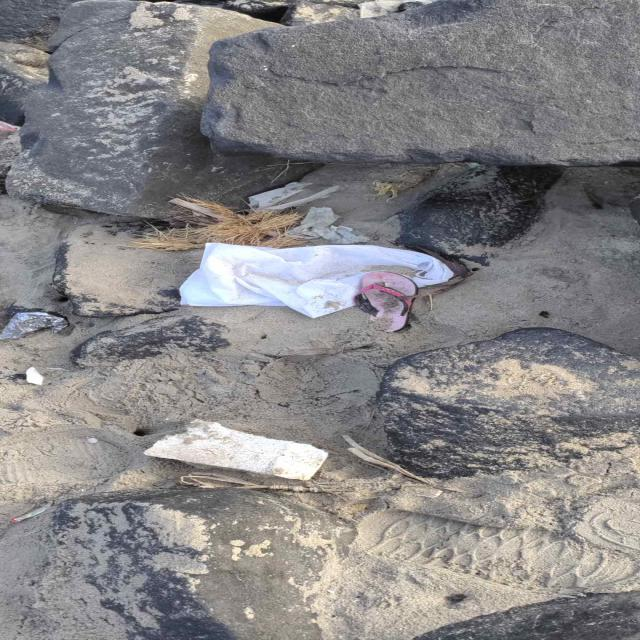other: (178, 242, 452, 318), (354, 272, 417, 332)
